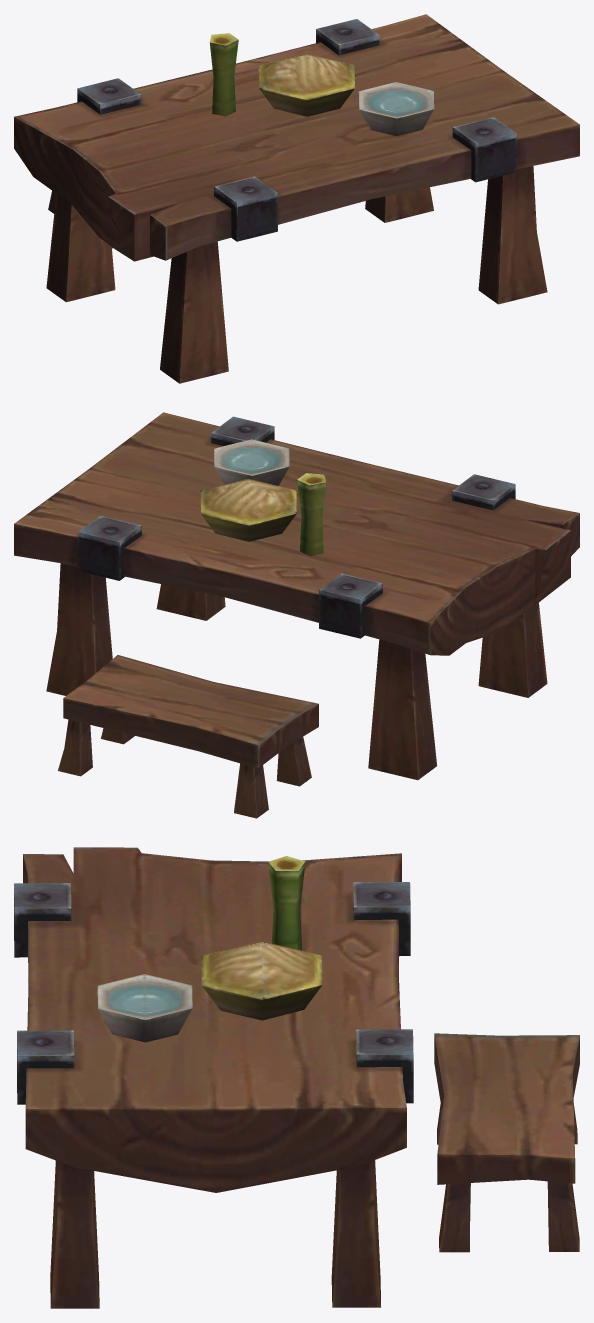
The model's file is tanwei_03.FBX.
The picture shows the model from 3 angles, top to bottom: view 1: azimuth 30°, elevation 25°; view 2: azimuth 150°, elevation 25°; view 3: azimuth 270°, elevation 25°; orthographic projection. The views are drawn at different scales.
Parts seen in each view (by area): view 1: tanwei_03; view 2: tanwei_03; view 3: tanwei_03.
Part boxes in pixels (x1,y1,x2,y2): tanwei_03: (14,14,579,383); tanwei_03: (14,412,579,818); tanwei_03: (14,847,579,1308).
Size of the model in its own units: 59.94 by 32.28 by 54.65.
